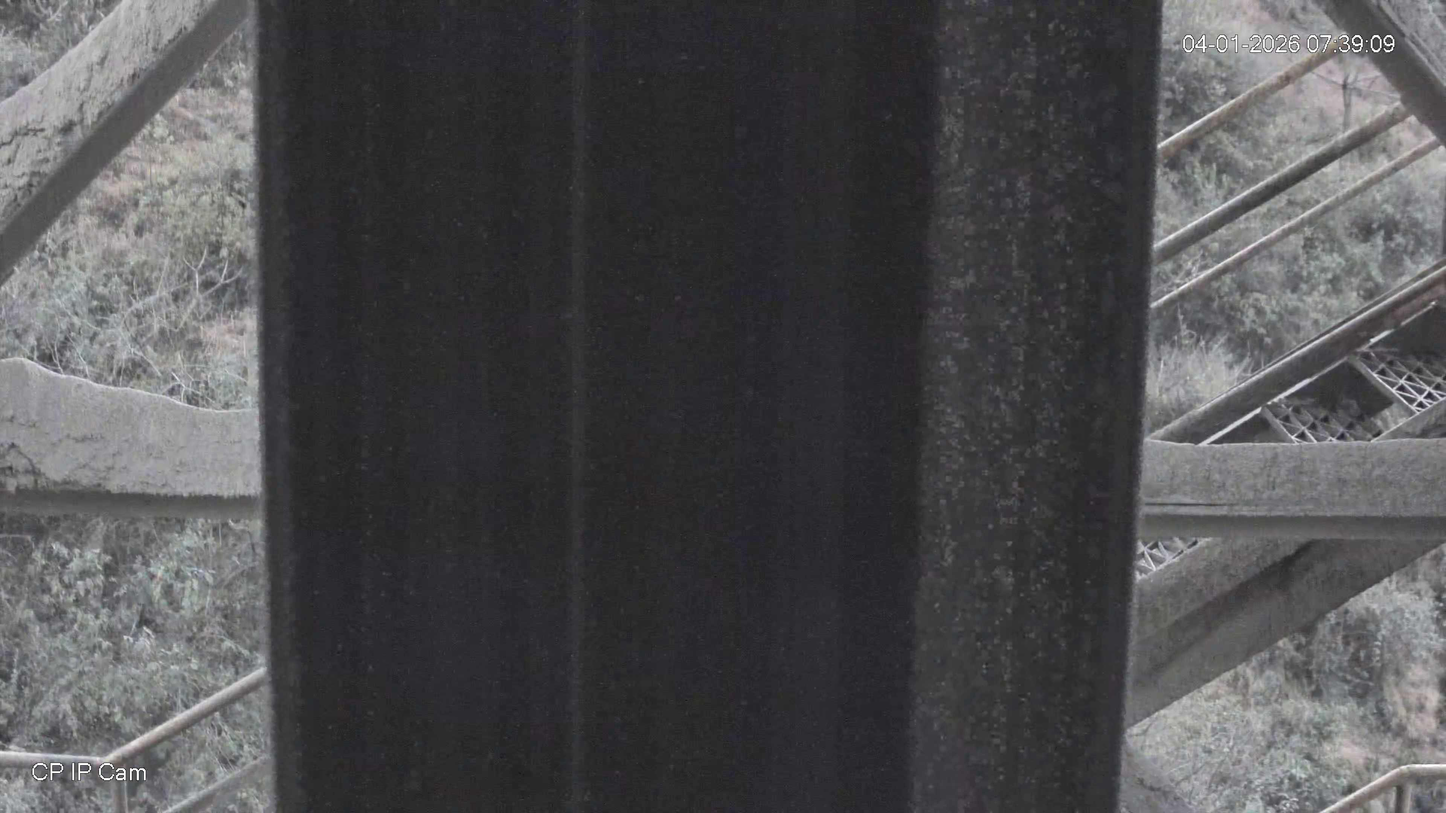belt_roi: (258, 0, 1164, 813)
